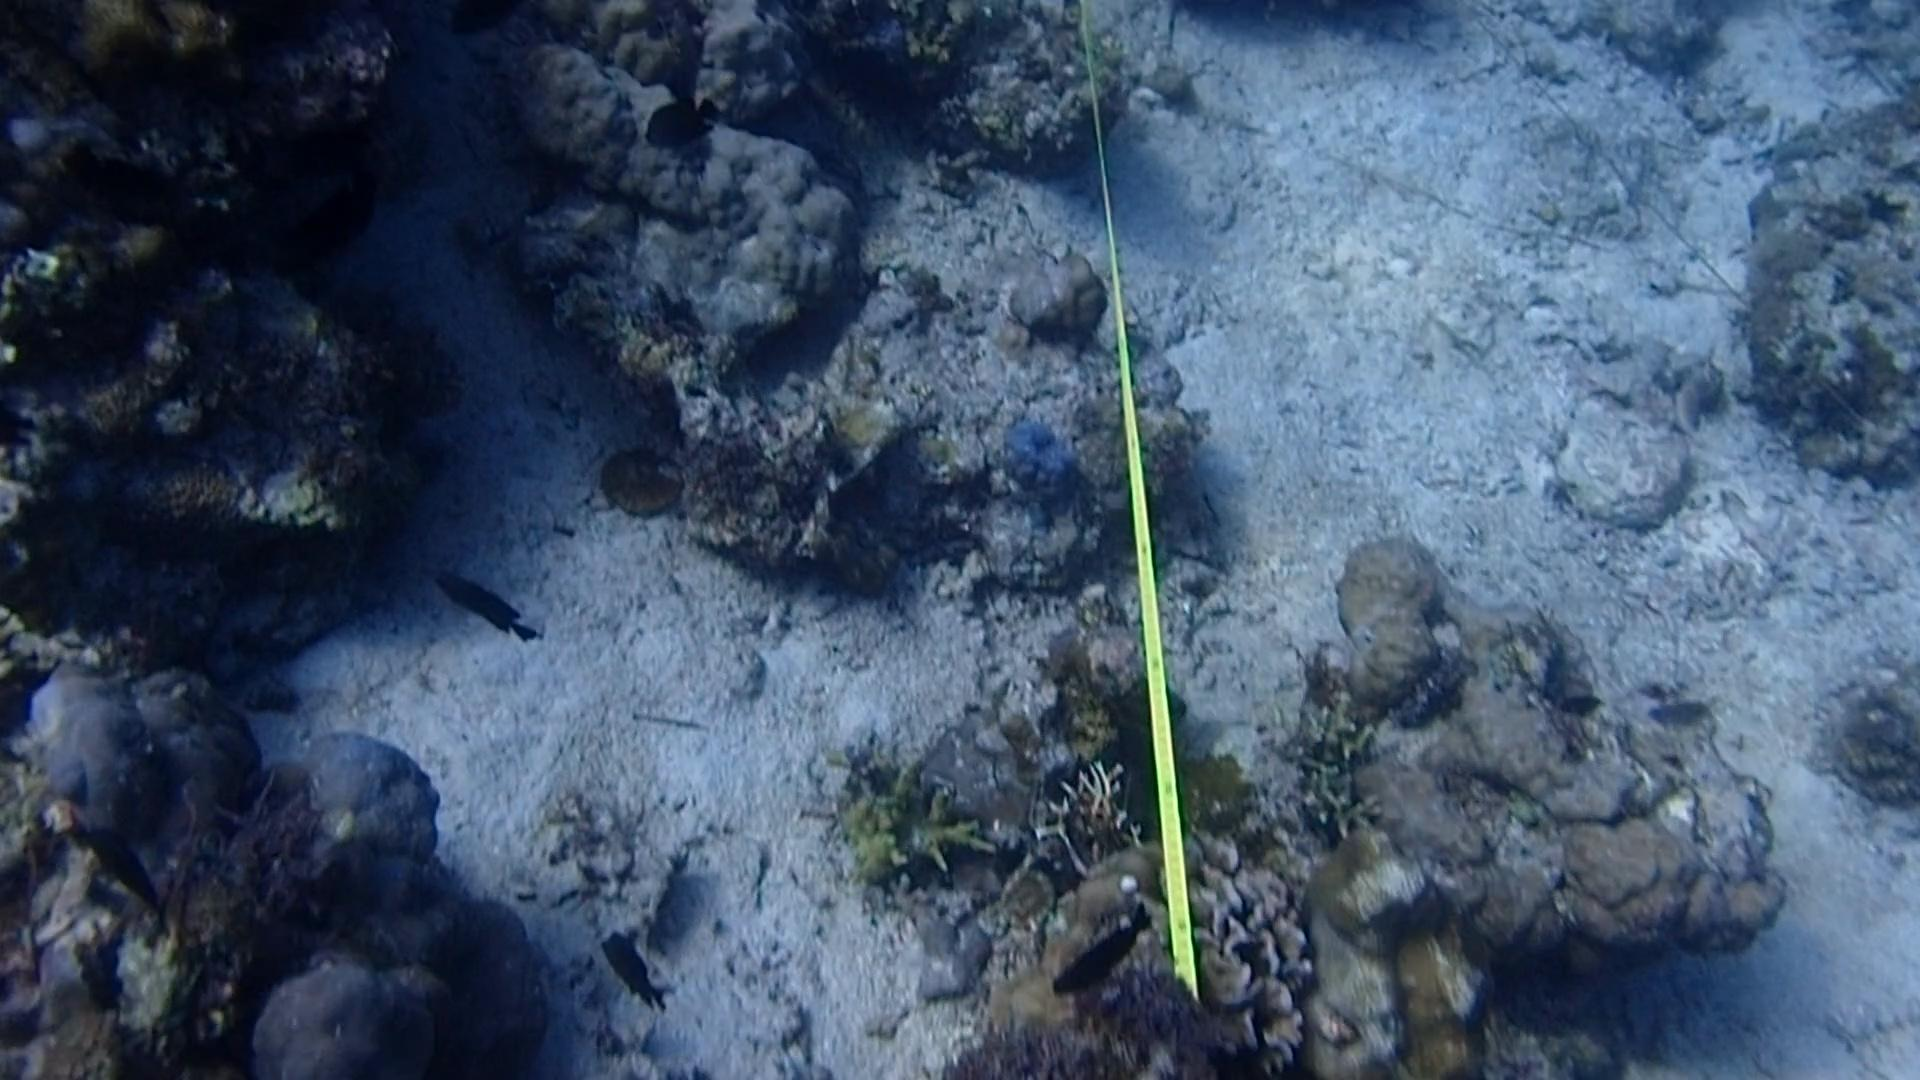Dark Fish: (66, 818, 199, 940), (421, 558, 546, 661), (1058, 898, 1150, 1005), (293, 170, 385, 272), (583, 931, 683, 1022), (618, 80, 735, 145)
Light Fish: (1665, 360, 1714, 440)
